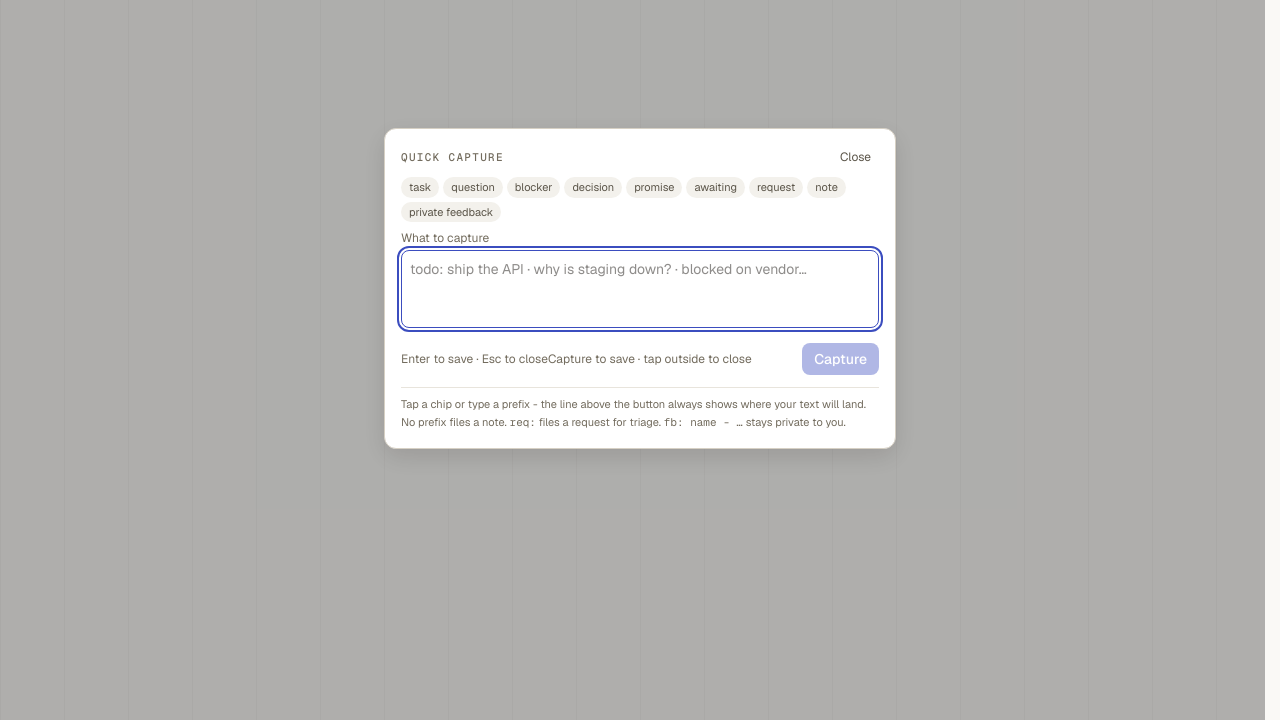
Test: quick capture and the promise label › previews and confirms as promise, never commitment
Replace the text in the text box labelled "What to capture" with "promised: ship the beta". click: (640, 289)
box: [401,250,879,328]
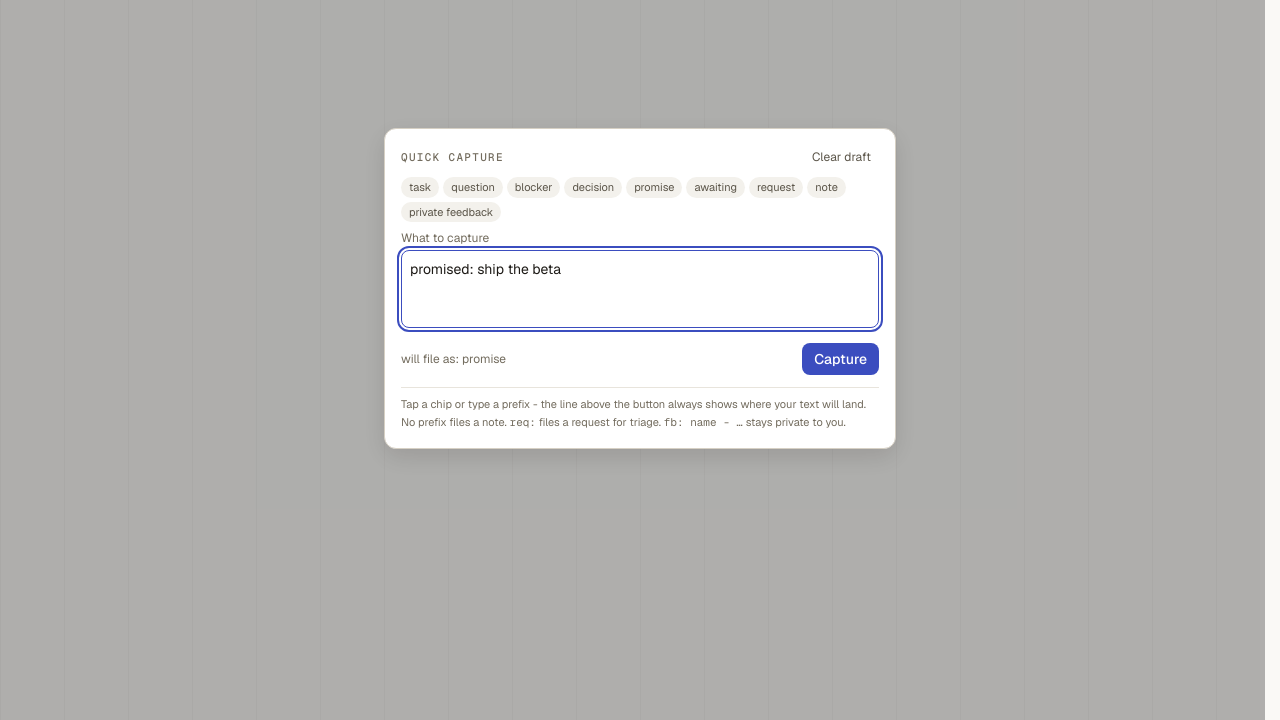
Expected: the text "will file as: promise" is shown, [401,351,506,367]
Click the button "Capture". click: (841, 359)
box: [802,343,879,375]
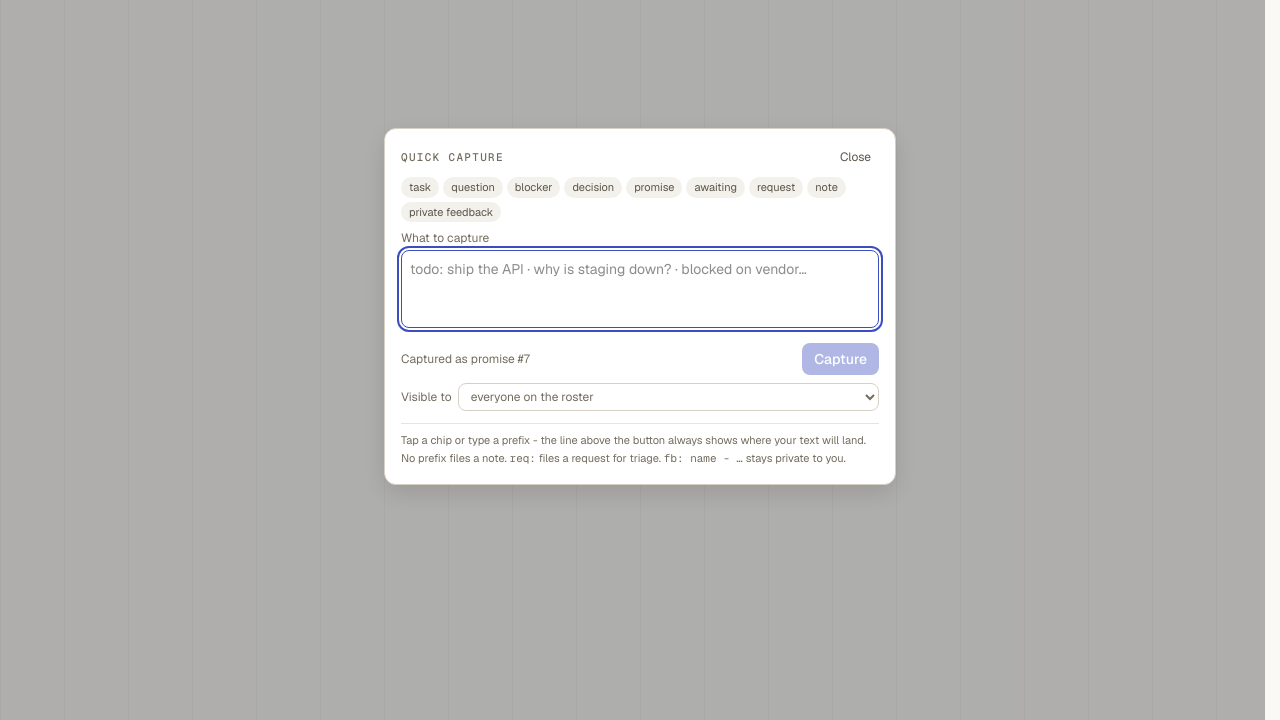
Expected: the text "Captured as promise #7" is shown, [401,351,530,367]
